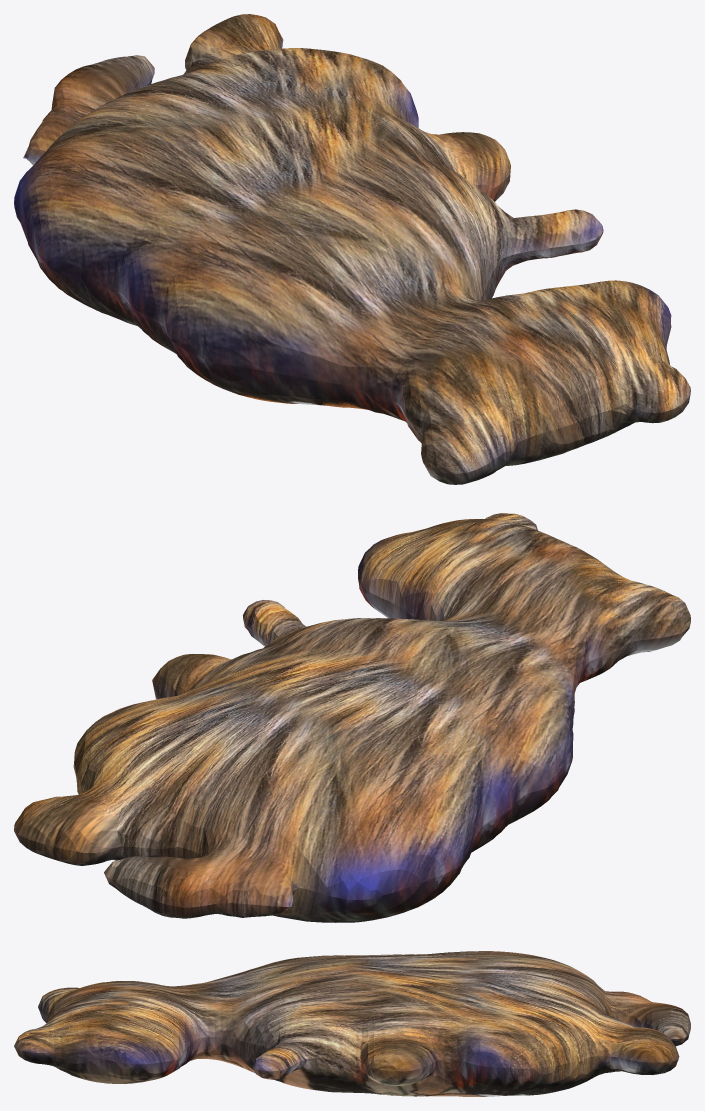
Rendered from 3Bp10bearAndGirl3D.obj.
3 renders of one model, top to bottom at view 1: azimuth 30°, elevation 25°; view 2: azimuth 150°, elevation 25°; view 3: azimuth 270°, elevation 25°, orthographic. The views are drawn at different scales.
Parts seen in each view (by area): view 1: Object.1; view 2: Object.1; view 3: Object.1.
Boxes of the visible parts, x1,y1,x2,y2 form: Object.1: (14, 14, 690, 484); Object.1: (14, 513, 690, 922); Object.1: (14, 951, 690, 1096).
Bounding box in the file's own units: 0.1705 × 0.0741 × 0.3774.
Materials: 1 (1 with a texture image).
